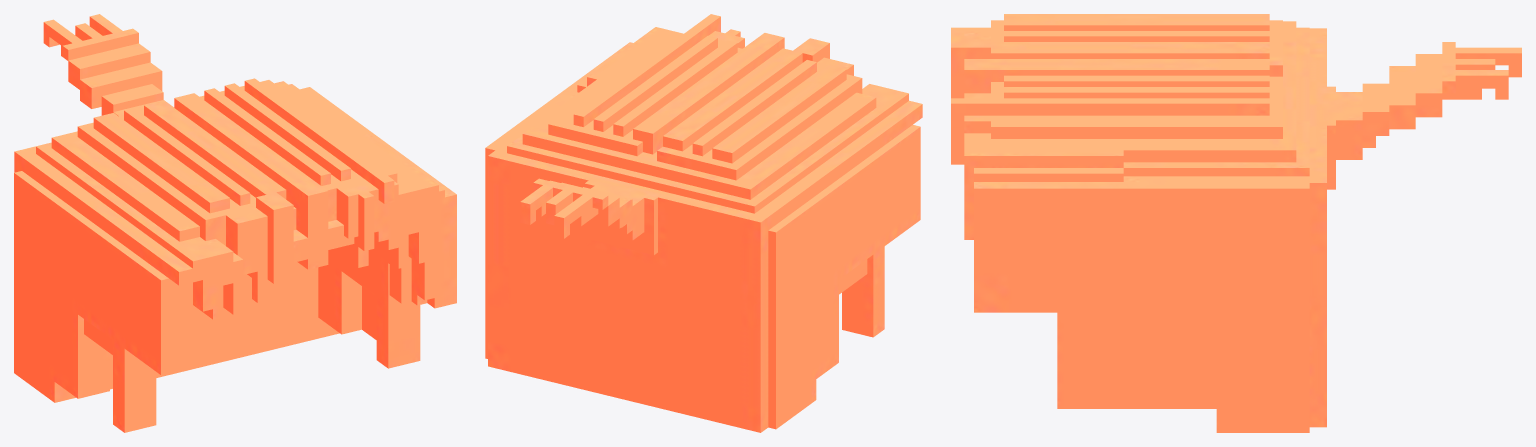
File: bushido_orange.glb
3 views of the same model, side by side, from view 1: azimuth 30°, elevation 25°; view 2: azimuth 150°, elevation 25°; view 3: azimuth 270°, elevation 25° (orthographic). The views are drawn at different scales.
Parts seen in each view (by area): view 1: japanese_uw; view 2: japanese_uw; view 3: japanese_uw.
Boxes of the visible parts, x1,y1,x2,y2 form: japanese_uw: (14,14,456,432); japanese_uw: (485,14,922,432); japanese_uw: (951,14,1521,432).
Size of the model in its own units: 2.95 by 2.41 by 4.32.
1 material, 1 textured.
